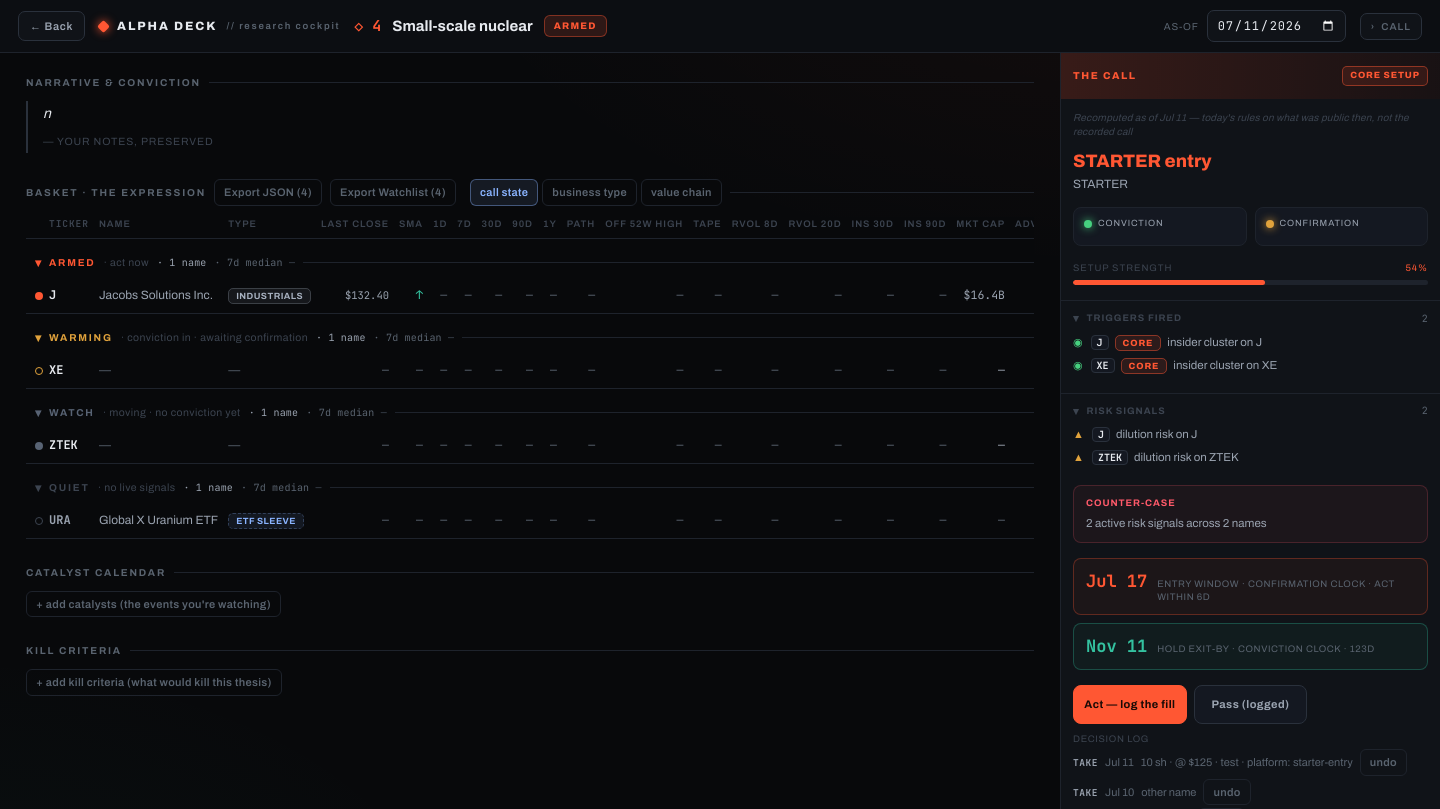
Scenario: Cockpit — the per-name panel › closes via Esc, ✕, and re-clicking the row — the table survives every exit
Click the row that starts with "Jacobs Solutions Inc." at (617, 295), box [26,277,1208,313]
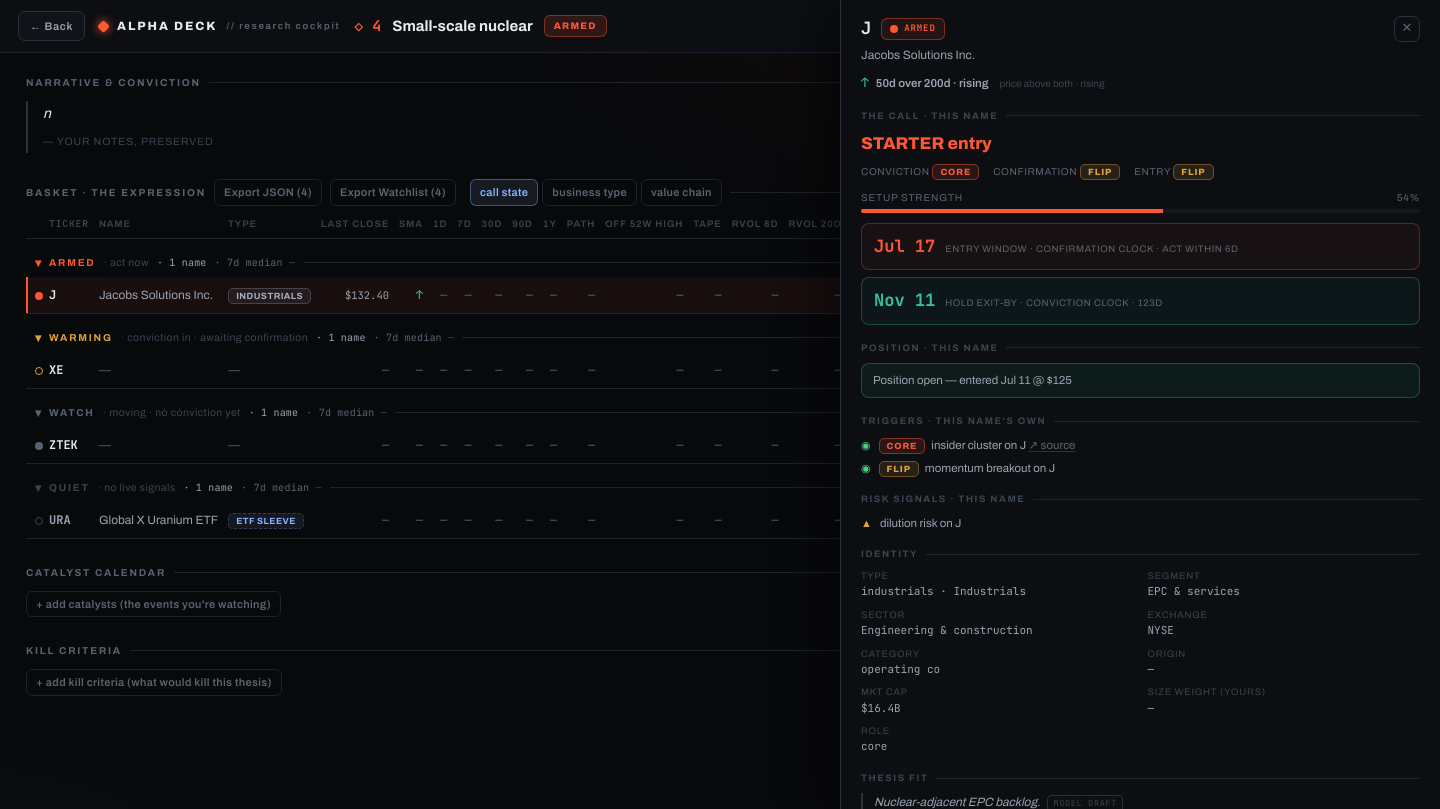
Press Escape
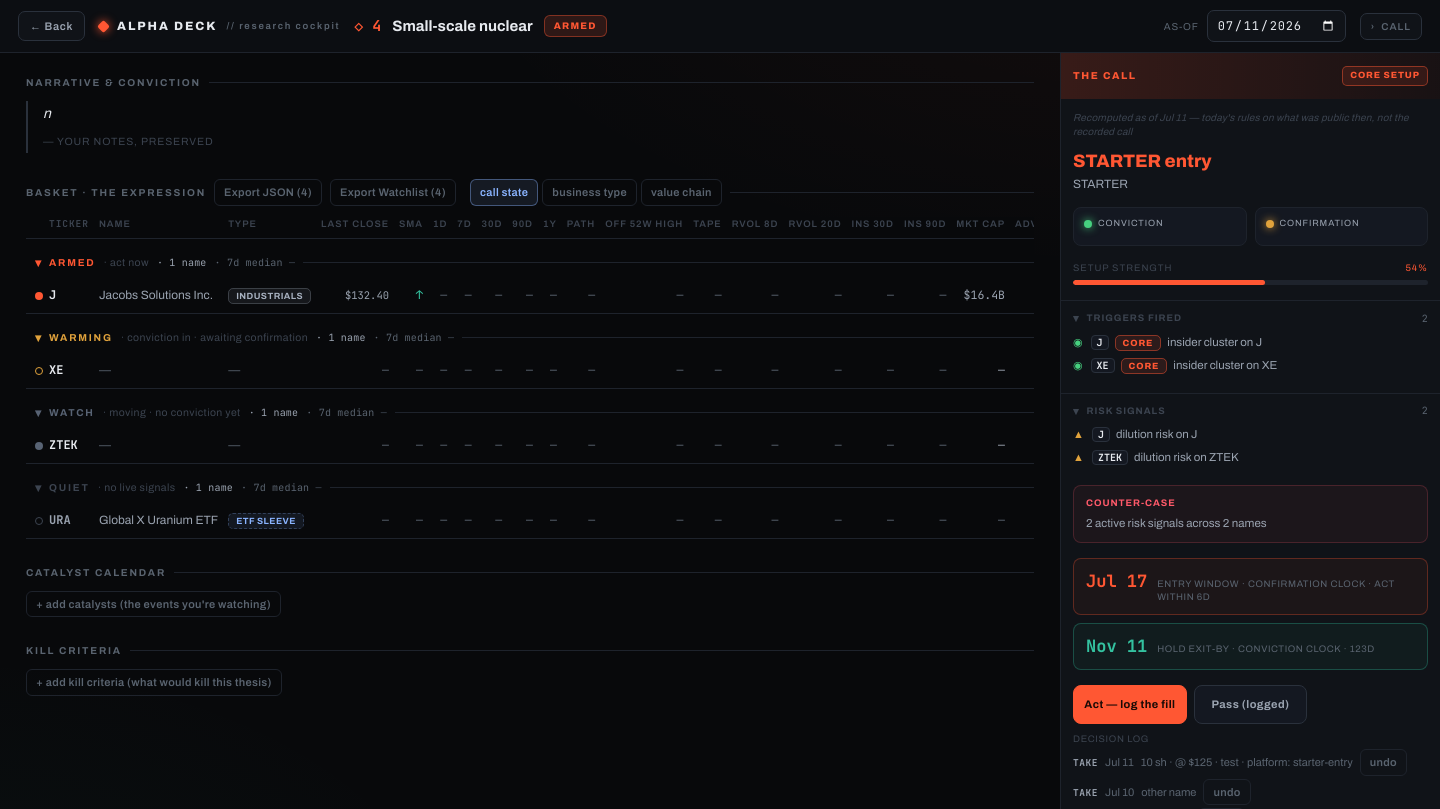
Result: the element with class "npanel" is gone
Click the row that starts with "Jacobs Solutions Inc." at (617, 295), box [26,277,1208,313]
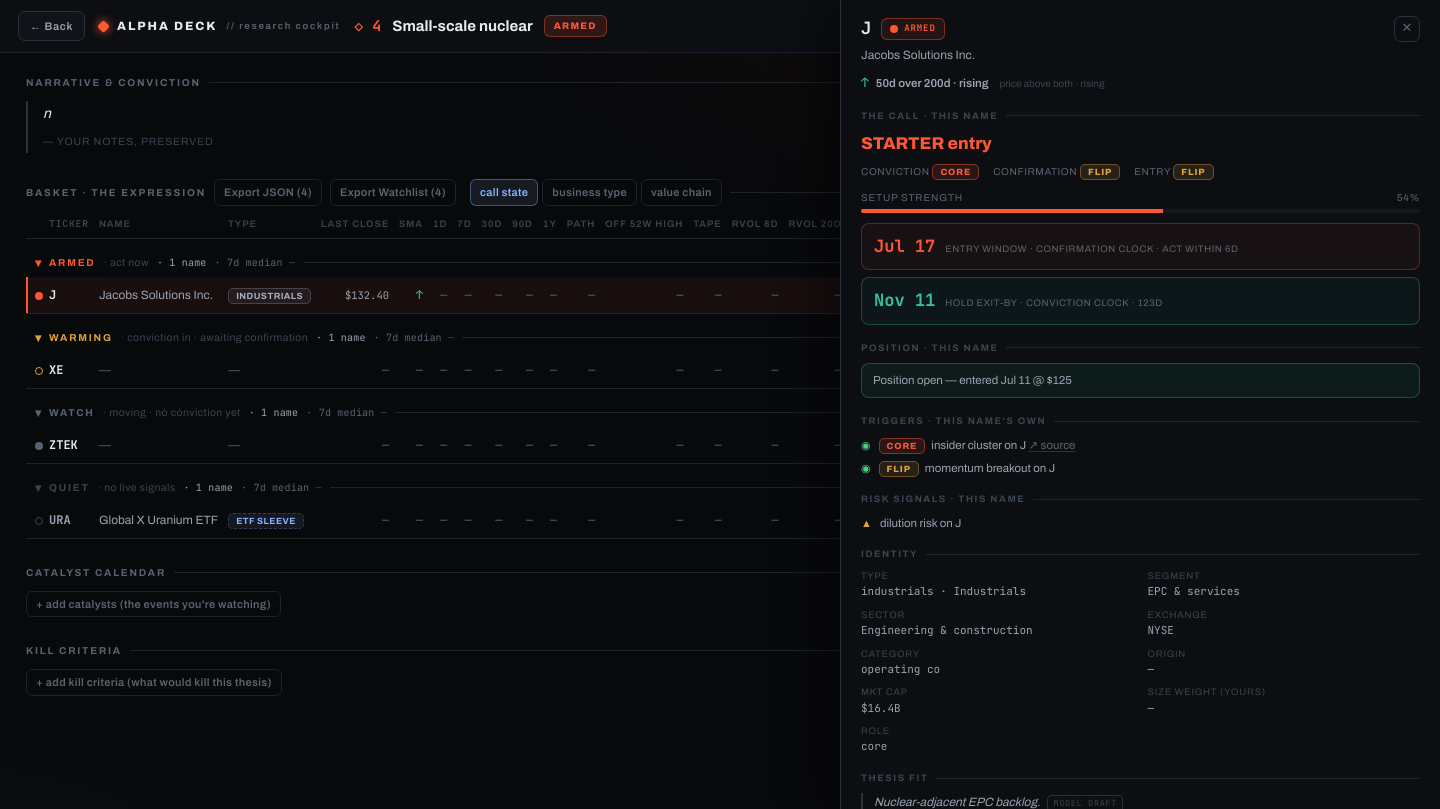
Click the button titled "close (Esc)" at (1407, 29), box [1394,16,1420,42]
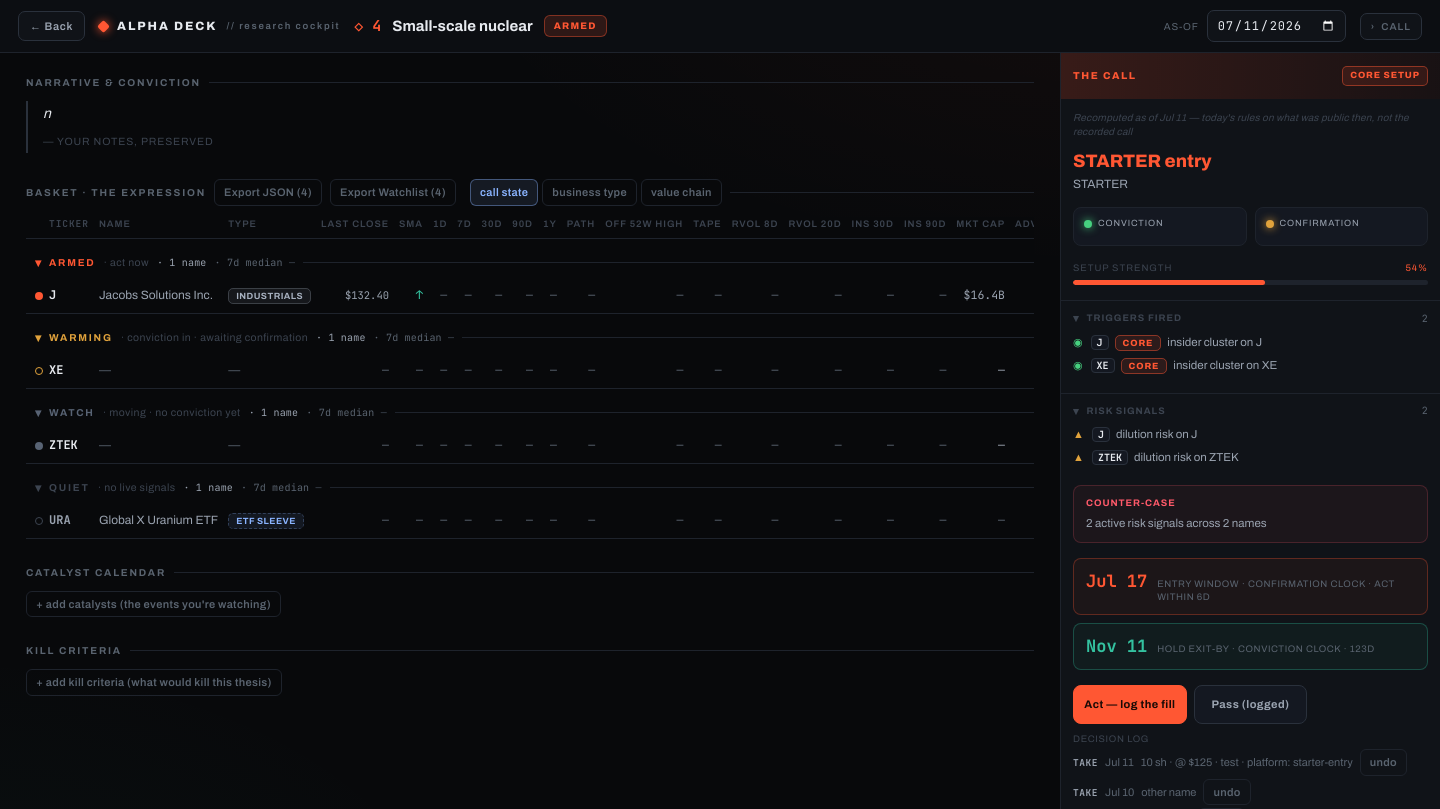
Result: the element with class "npanel" is gone
Click the row that starts with "Jacobs Solutions Inc." at (617, 295), box [26,277,1208,313]
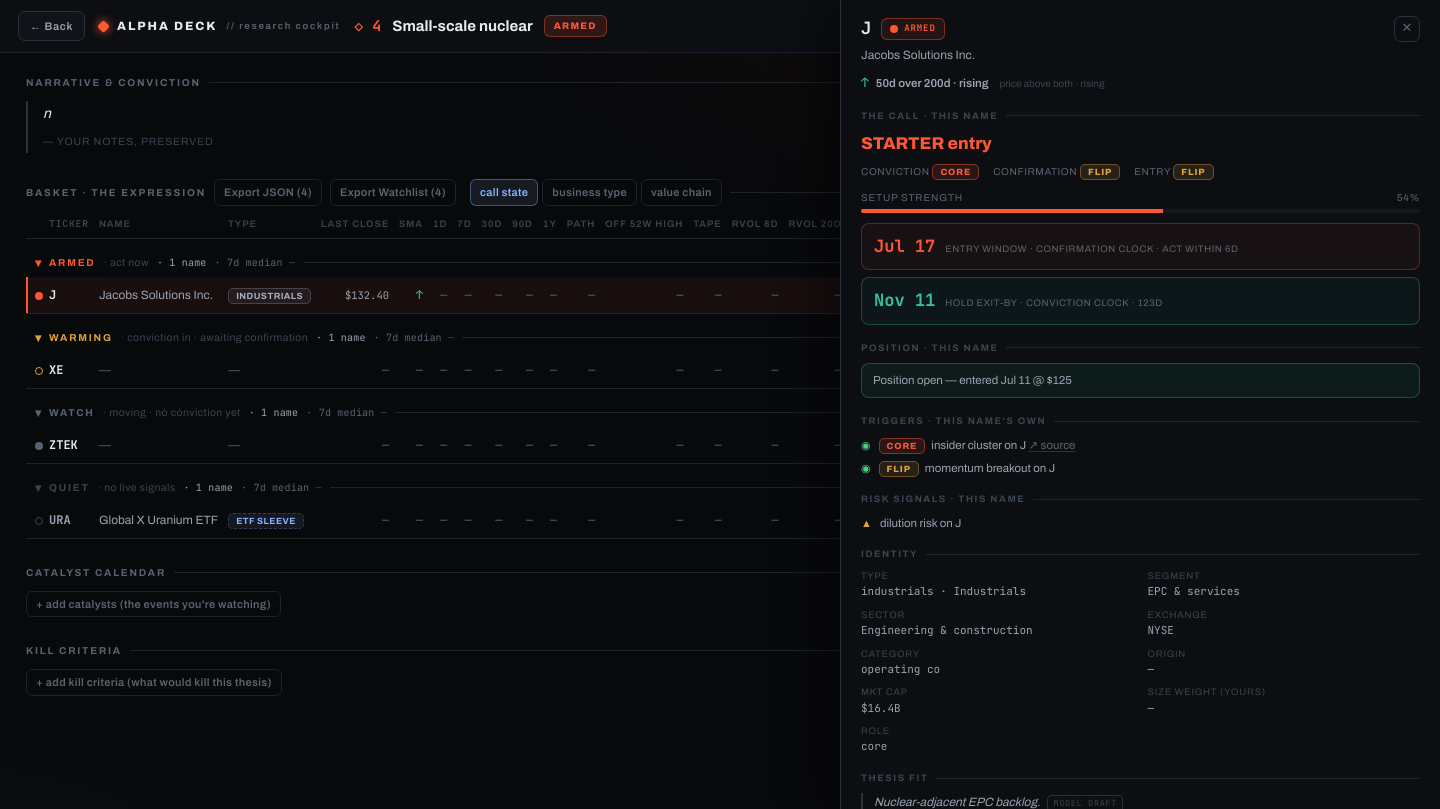
Click the row that starts with "Jacobs Solutions Inc." at (617, 295), box [26,277,1208,313]
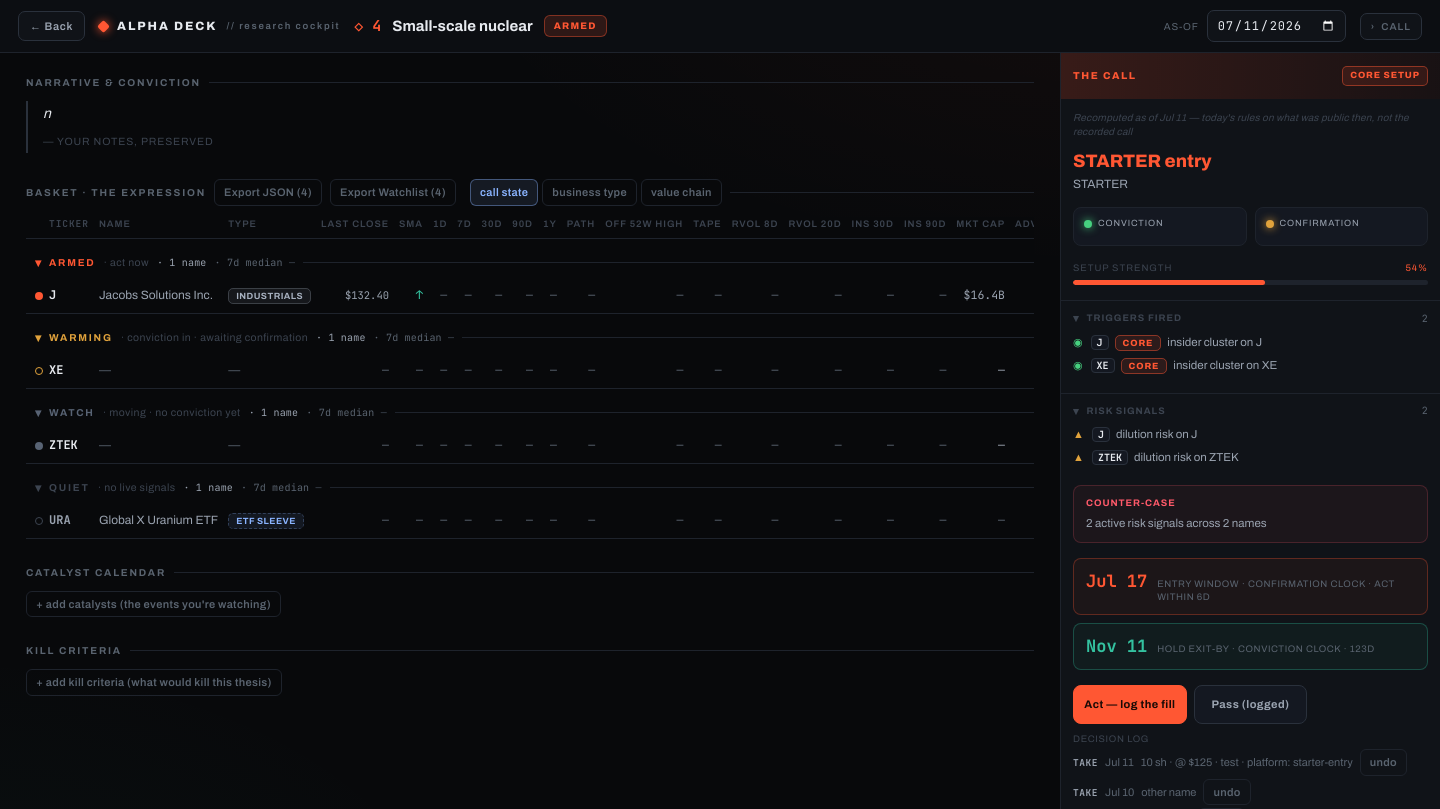
Result: the element with class "npanel" is gone
